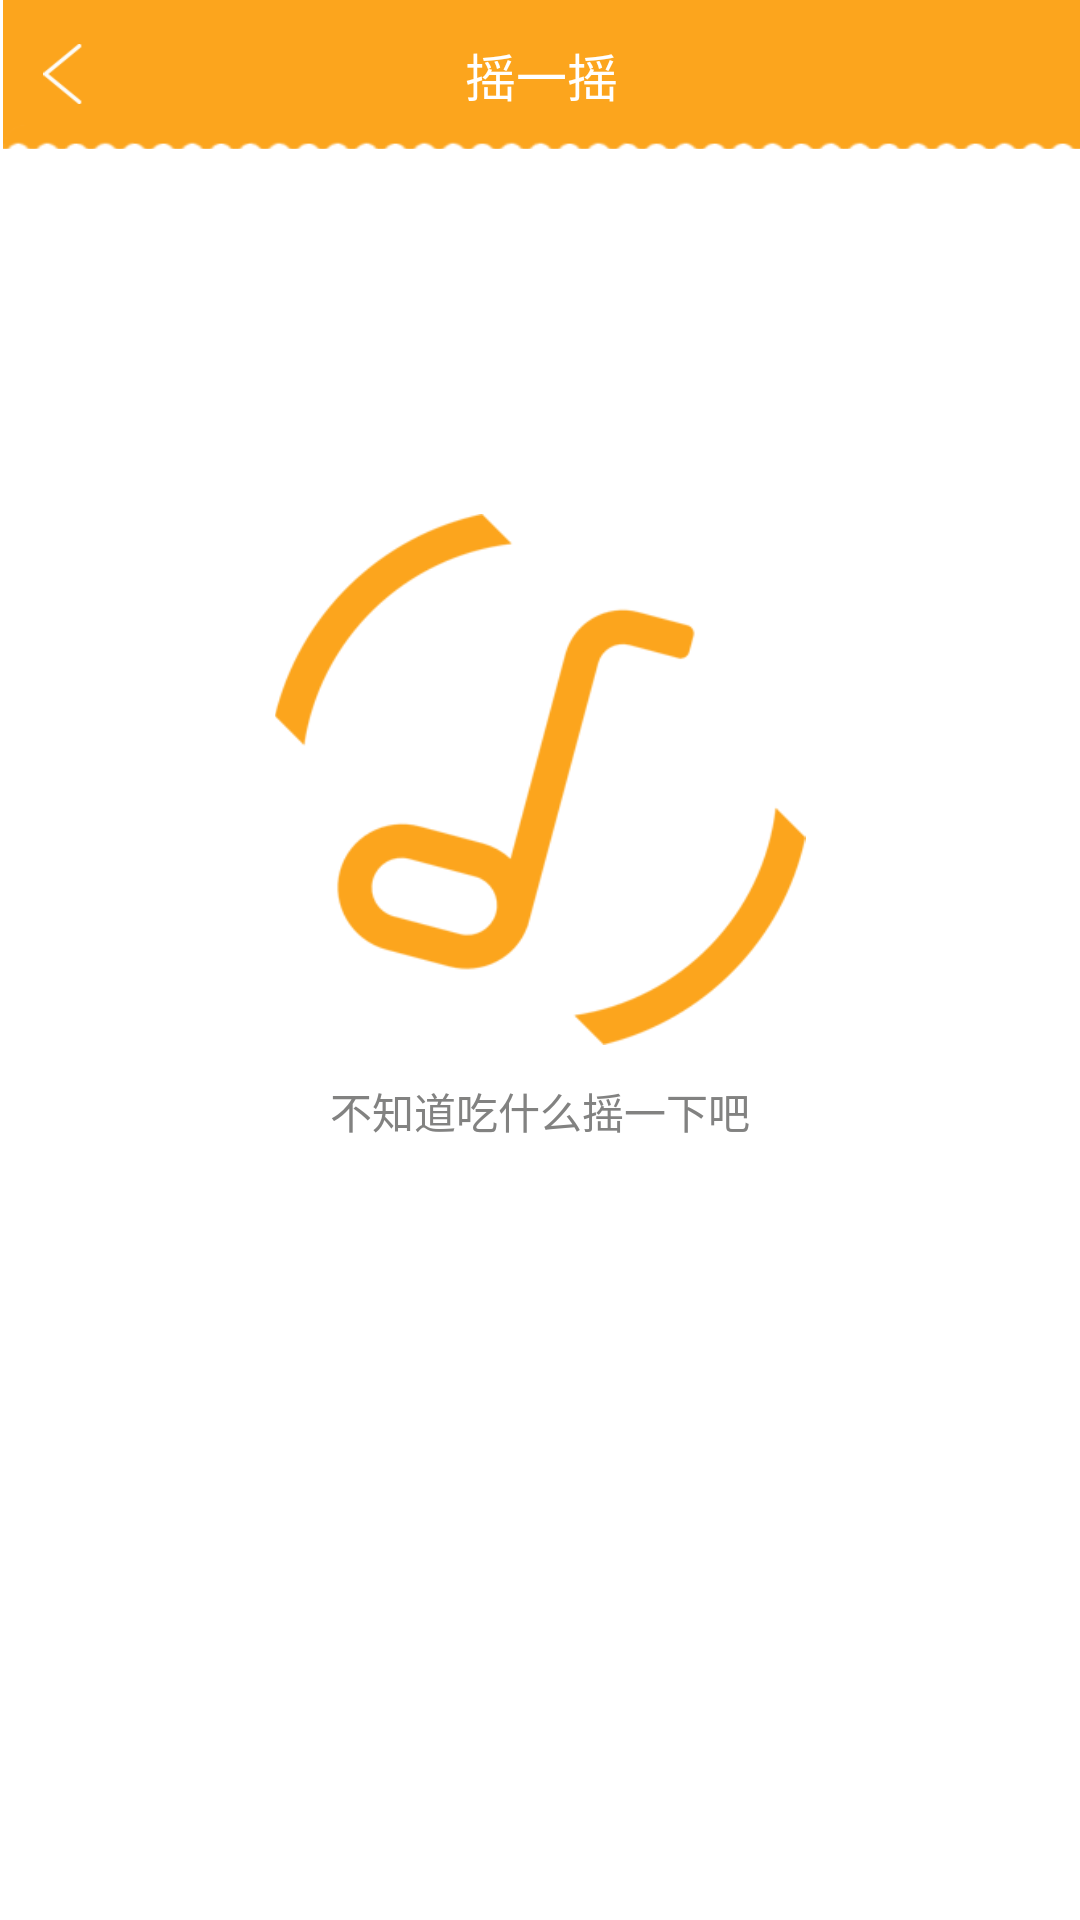

Screen size 1080 x 1920. Icon name, then its box in pixels as (left=x1, top=y1, right=x2, bottom=y2):
imageview arrow back: (left=43, top=44, right=82, bottom=104)
